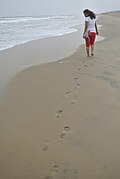human_footprint: (44, 163, 79, 178), (44, 163, 58, 178), (60, 125, 69, 138), (56, 109, 63, 119), (42, 140, 48, 151), (70, 95, 76, 104)
